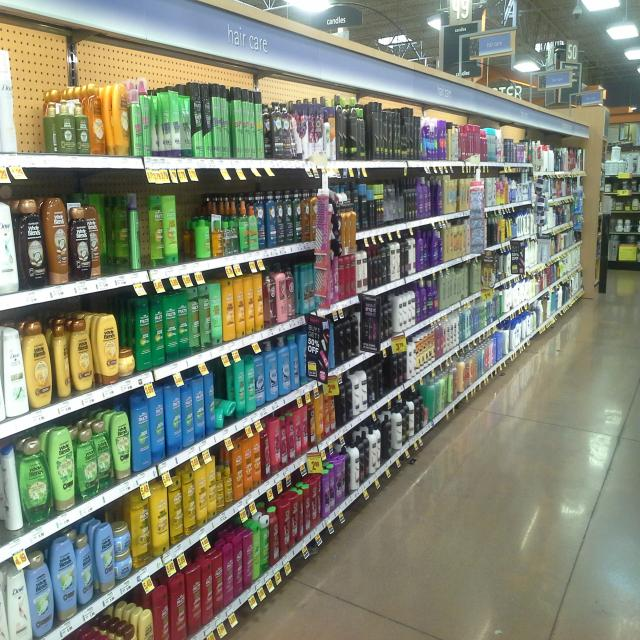empty: (9, 61, 66, 163)
